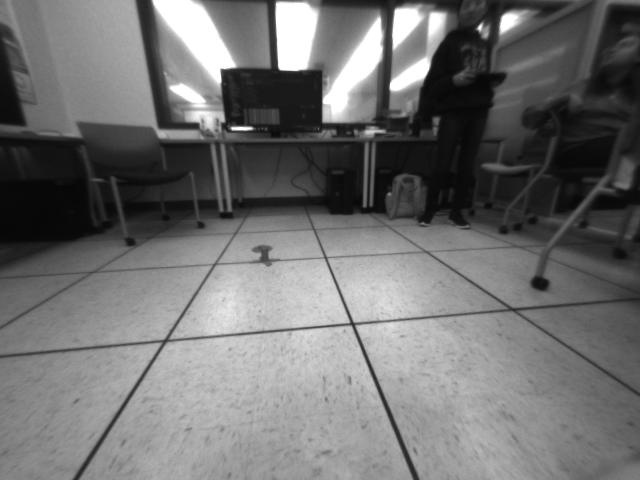X: (250, 248, 281, 267)
